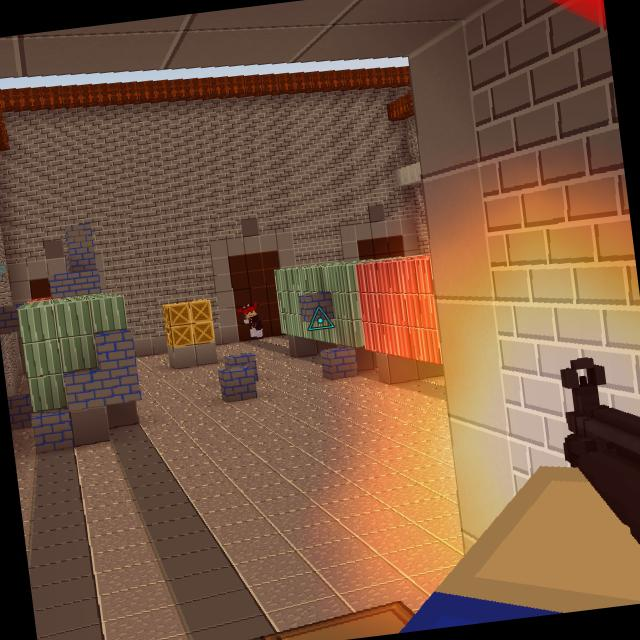enemy: (234, 299, 266, 342)
